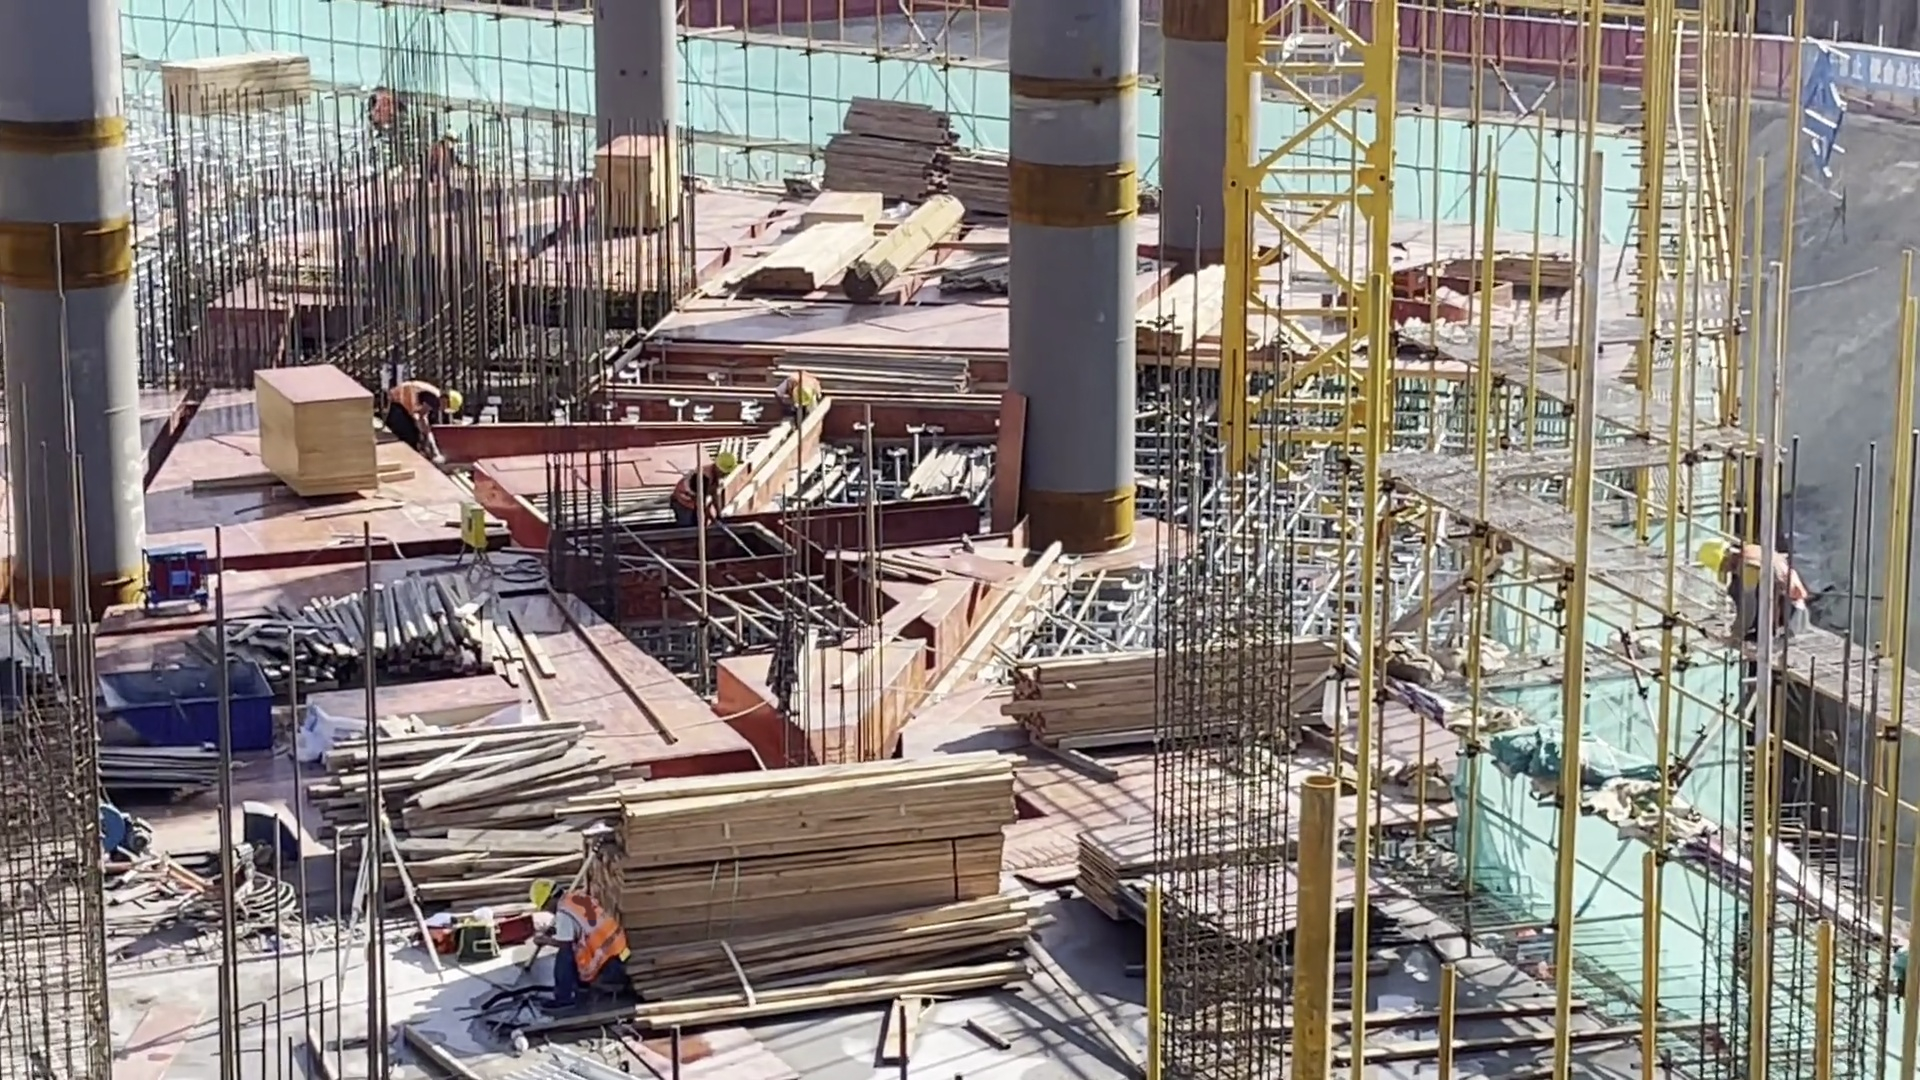board: (1080, 798, 1302, 919), (250, 358, 375, 498), (1449, 248, 1573, 291)
ebox: (452, 498, 499, 583)
helmet: (1696, 537, 1729, 580), (529, 878, 556, 910), (715, 451, 737, 474), (794, 386, 812, 408), (449, 389, 463, 413)
hopper: (96, 657, 285, 757)
person: (527, 876, 632, 1011), (1696, 537, 1813, 643), (390, 380, 465, 454), (669, 451, 738, 524), (775, 370, 823, 417)
slogan: (1809, 41, 1919, 95)
vest: (558, 895, 626, 982), (391, 381, 440, 420), (672, 469, 698, 512), (785, 371, 820, 390)
wood: (591, 750, 1017, 942), (317, 724, 585, 899), (1010, 637, 1159, 748)
